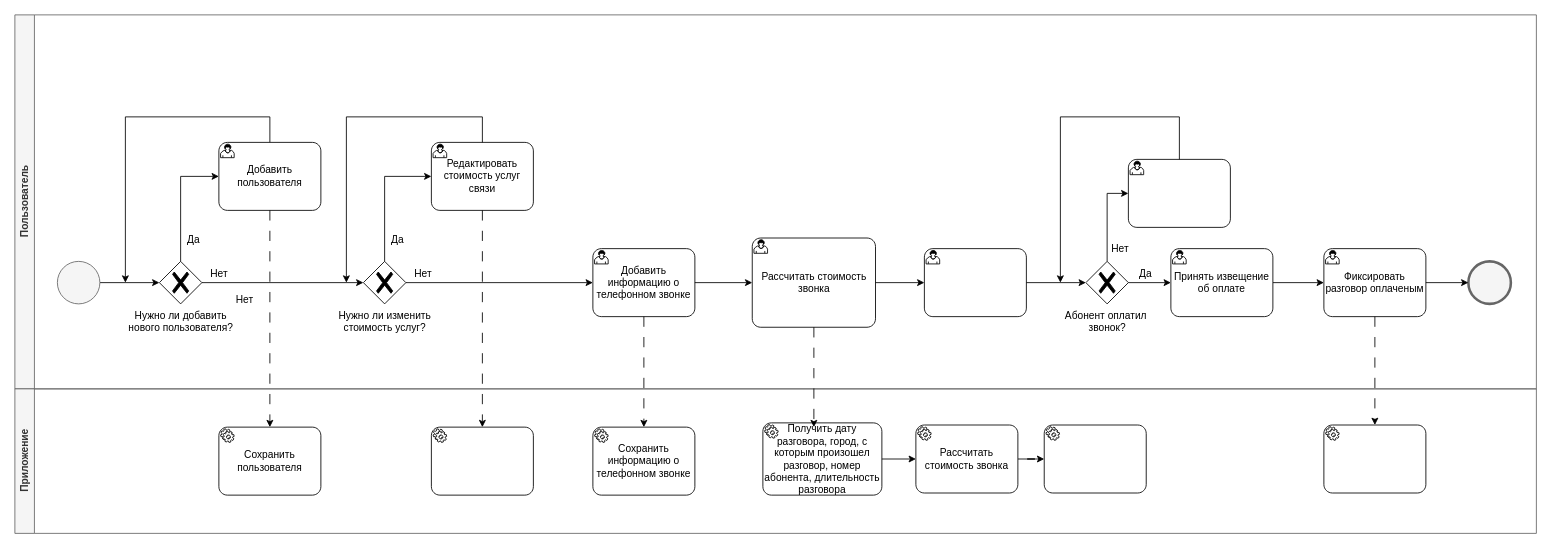
The diagram is 1551 pixels wide and 548 high, and some of its shapes have lost their labels. Here are the shapes that lost their labels. From the top down, the centre of each, then its label:
At point (1179, 193): "Оповестить абонента о неоплате".
At point (78, 282): "Вход в систему".
At point (975, 282): "Отправить квитанцию абоненту".
At point (1489, 282): "Завершить работу".
At point (482, 460): "Сохранить стоимость услуг связи".
At point (1094, 458): "Сохранить стоимость звонка".
At point (1374, 458): "Фиксация оплаты звонка".
